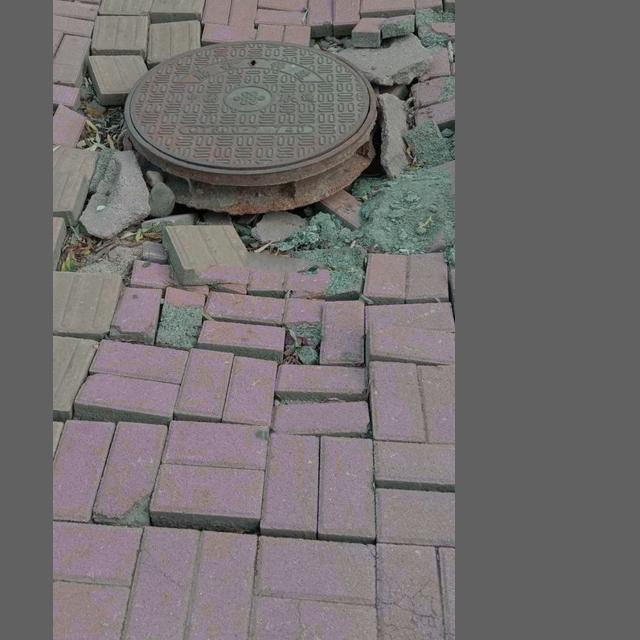circle: (61, 0, 450, 375)
